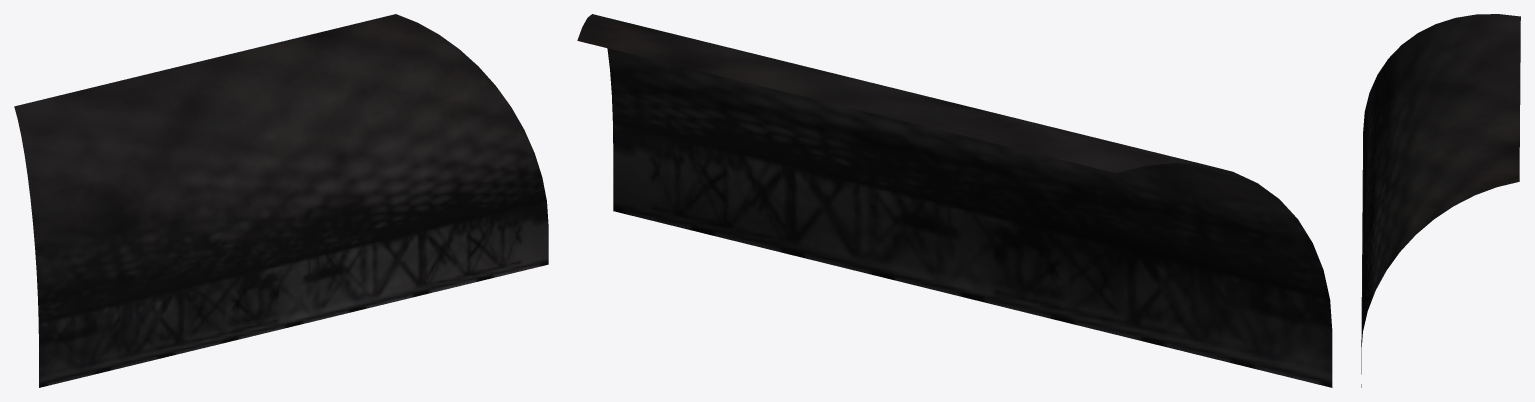
Rendered from ARC0610017.fbx.
3 renders of one model, left to right at view 1: azimuth 30°, elevation 25°; view 2: azimuth 150°, elevation 25°; view 3: azimuth 270°, elevation 25°, orthographic. The views are drawn at different scales.
Parts seen in each view (by area): view 1: smARC0610017; view 2: smARC0610017; view 3: smARC0610017.
Part boxes in pixels (left/top/right/bottom): smARC0610017: left=14, top=14, right=548, bottom=387; smARC0610017: left=577, top=14, right=1332, bottom=387; smARC0610017: left=1361, top=14, right=1520, bottom=387.
Bounding box in the file's own units: 2917 × 1100 × 892.
Materials: 1 (1 with a texture image).
